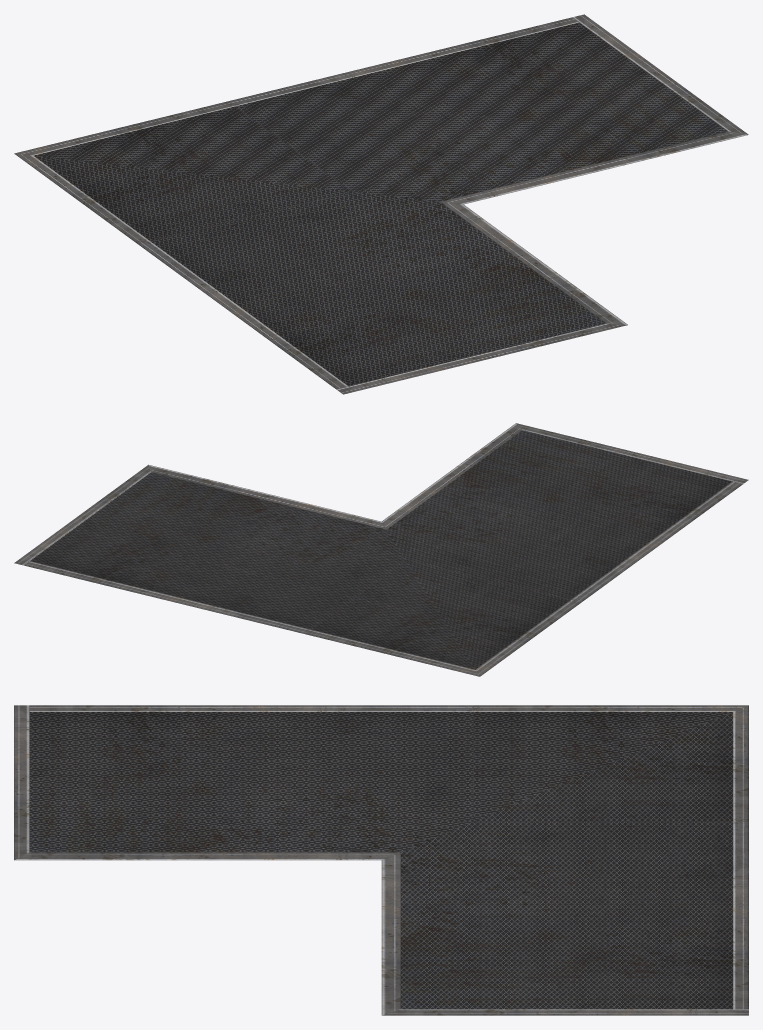
Rendered from Floor_G_2'5qmts_02.fbx.
3 views of the same model, one above another, from view 1: azimuth 30°, elevation 25°; view 2: azimuth 150°, elevation 25°; view 3: azimuth 270°, elevation 25° (orthographic). The views are drawn at different scales.
Parts seen in each view (by area): view 1: Floor_G_2'5qmts_02; view 2: Floor_G_2'5qmts_02; view 3: Floor_G_2'5qmts_02.
Part boxes in pixels (x1,y1,x2,y2): Floor_G_2'5qmts_02: (14, 14, 748, 394); Floor_G_2'5qmts_02: (14, 423, 748, 676); Floor_G_2'5qmts_02: (14, 705, 748, 1015).
Bounding box in the file's own units: 400 × 0.00018 × 400.
1 material, 1 textured.
